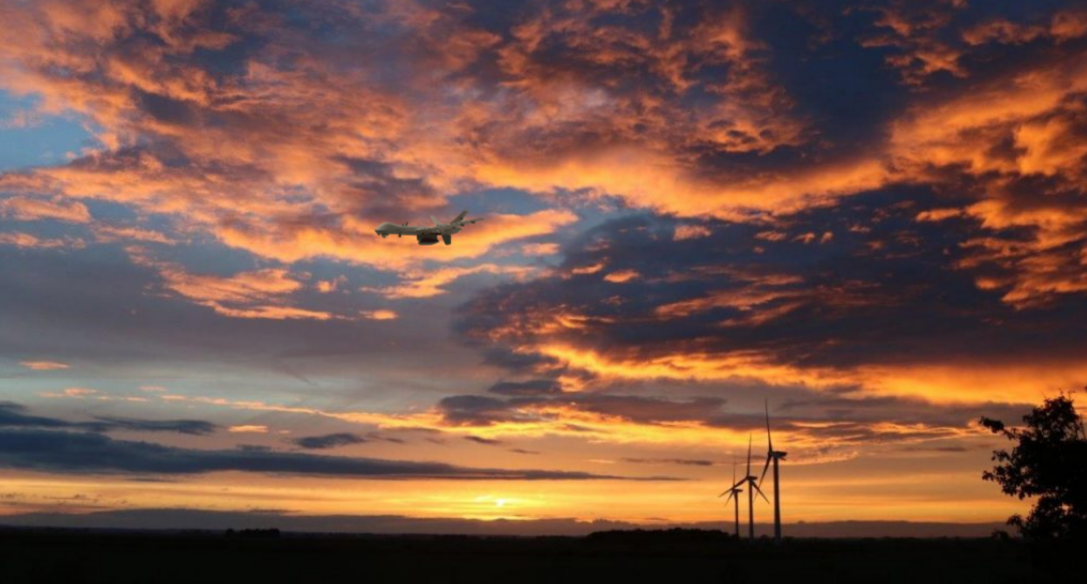military drone: (374, 210, 485, 245)
